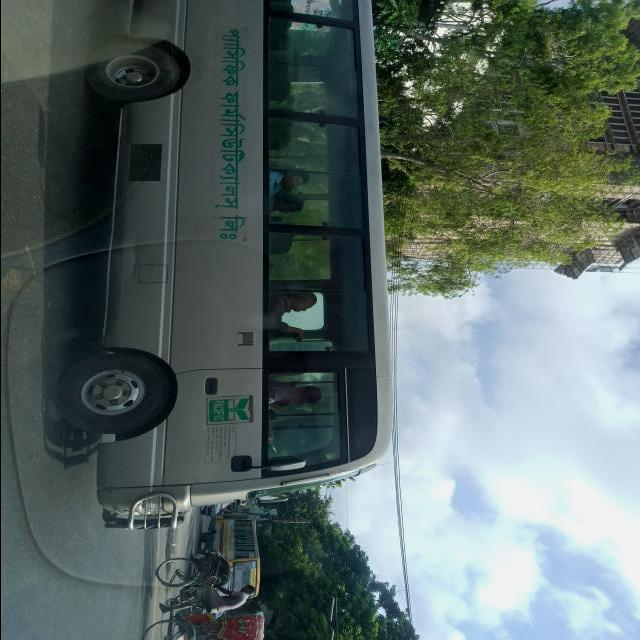bus: (55, 1, 394, 533)
